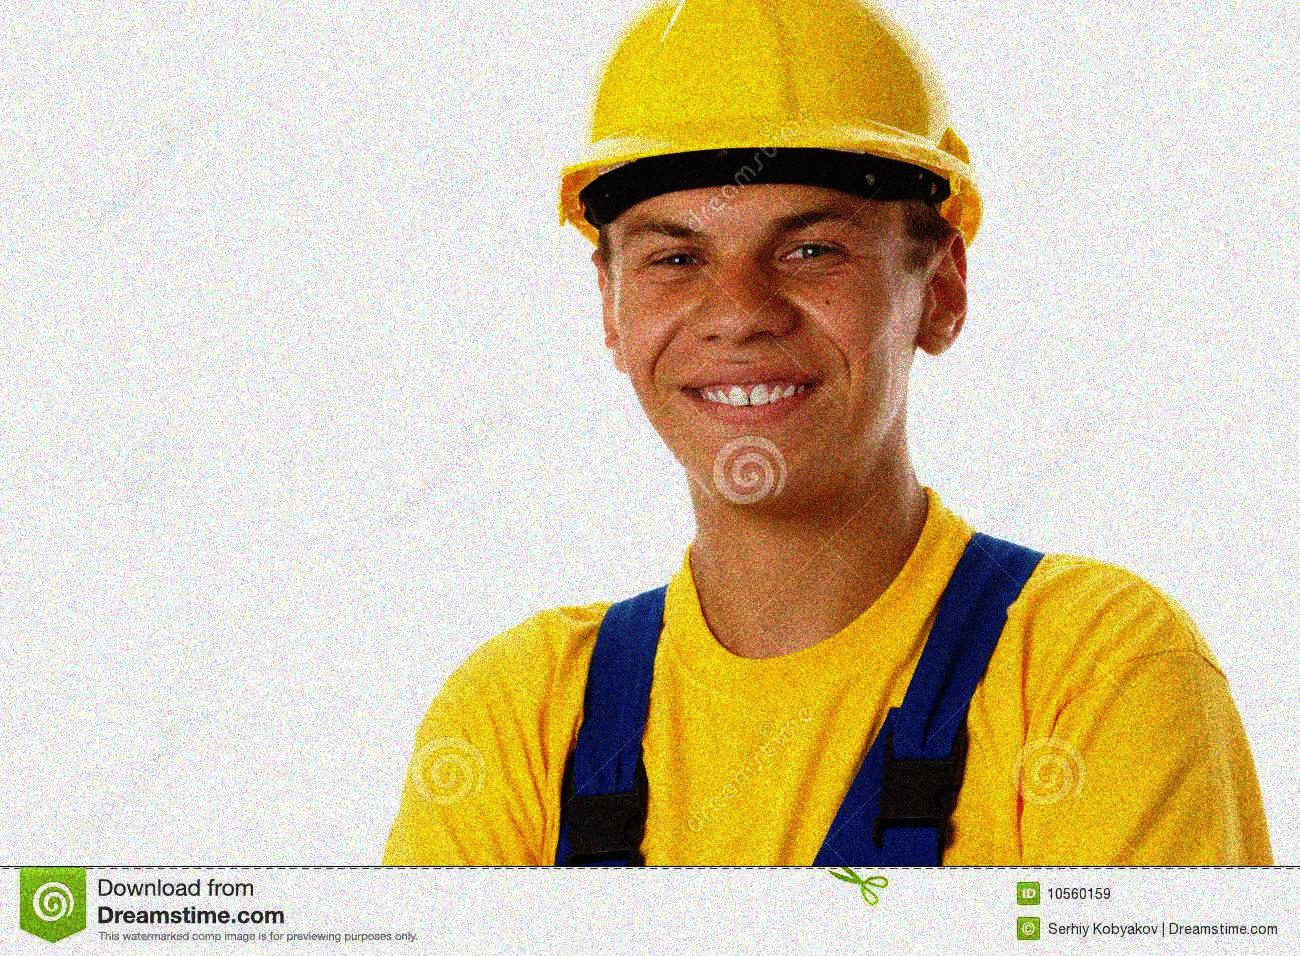helmet: (556, 1, 985, 495)
